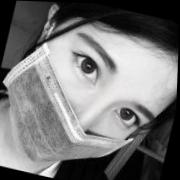WRONG: (1, 16, 179, 180)
